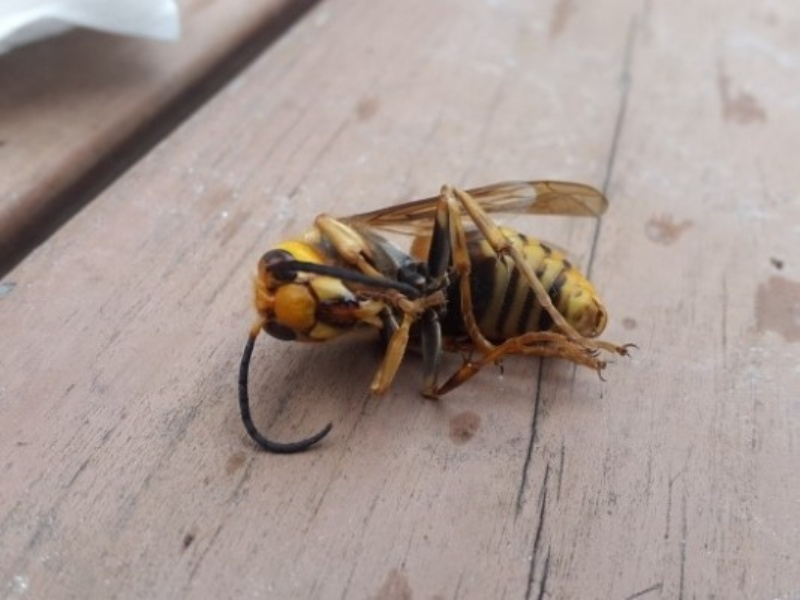asian_giant_hornet: (223, 158, 637, 414)
